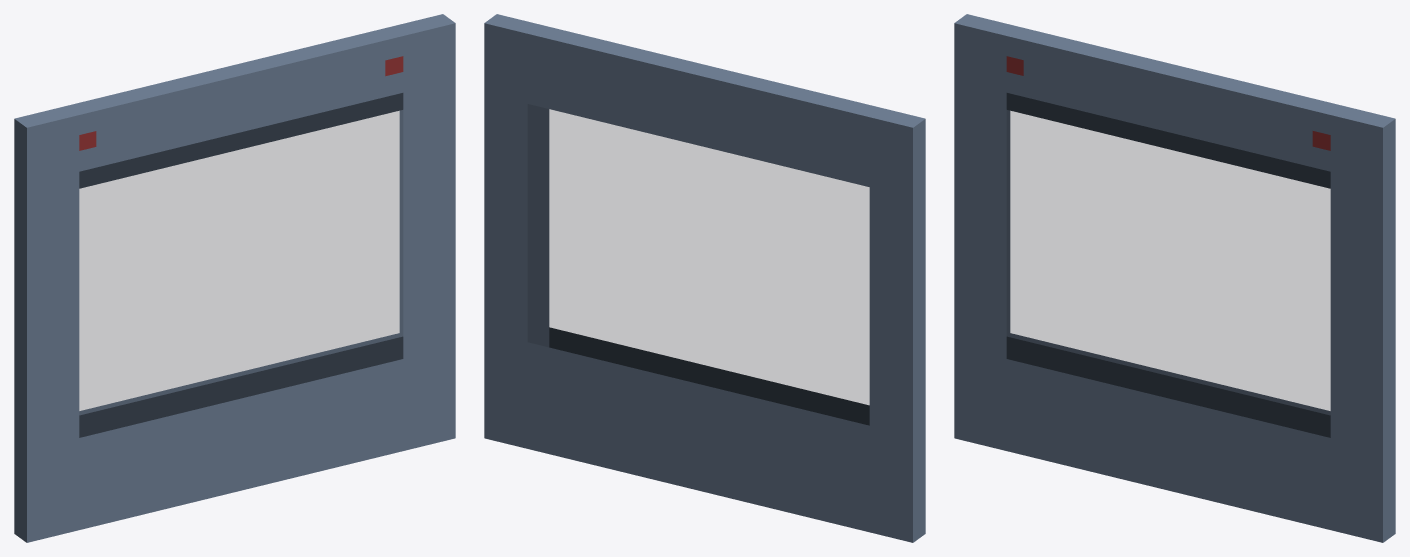
File: ovendoor_withouthandle.fbx
The picture shows the model from 3 angles, left to right: view 1: azimuth 30°, elevation 25°; view 2: azimuth 150°, elevation 25°; view 3: azimuth 330°, elevation 25°; orthographic projection.
Parts seen in each view (by area): view 1: pCube4; view 2: pCube4; view 3: pCube4.
Part boxes in pixels (left/top/right/bottom): pCube4: left=14, top=14, right=455, bottom=542; pCube4: left=484, top=14, right=925, bottom=542; pCube4: left=954, top=14, right=1395, bottom=542.
Size of the model in its own units: 5.79 by 5.35 by 0.2938.
